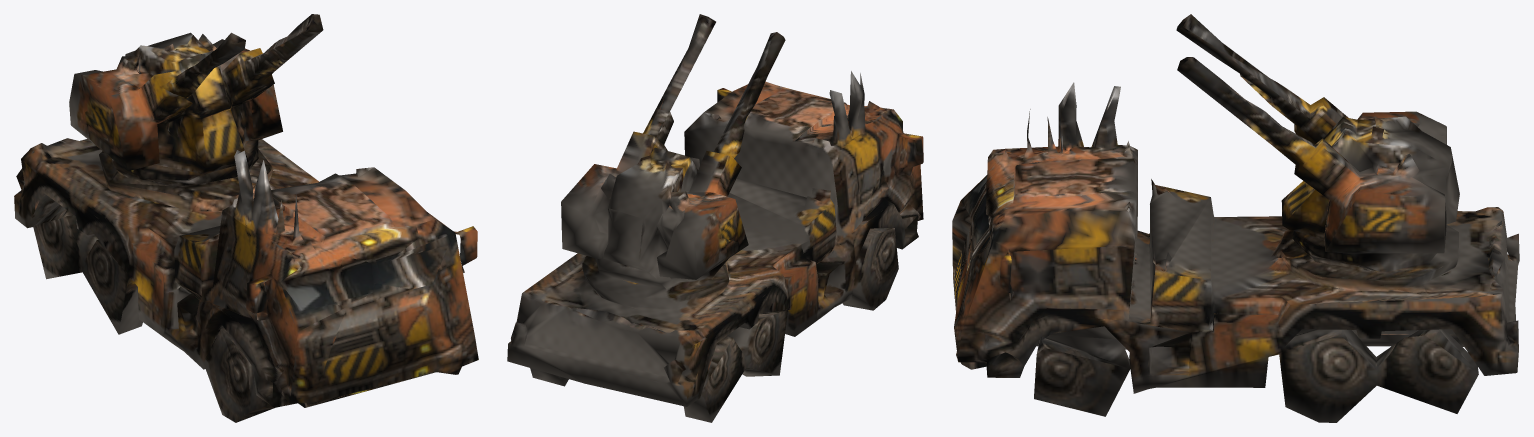
The model's file is flakwagon_lod2.glb.
3 views of the same model, side by side, from view 1: azimuth 30°, elevation 25°; view 2: azimuth 150°, elevation 25°; view 3: azimuth 270°, elevation 25° (orthographic). The views are drawn at different scales.
Visible parts, largest first — view 1: geometry_0; view 2: geometry_0; view 3: geometry_0.
Boxes of the visible parts, left/top/right/bottom form: geometry_0: left=14, top=14, right=478, bottom=422; geometry_0: left=507, top=14, right=923, bottom=422; geometry_0: left=952, top=14, right=1519, bottom=422.
Bounding box in the file's own units: 0.9387 × 1.3 × 1.98.
1 material, 1 textured.
